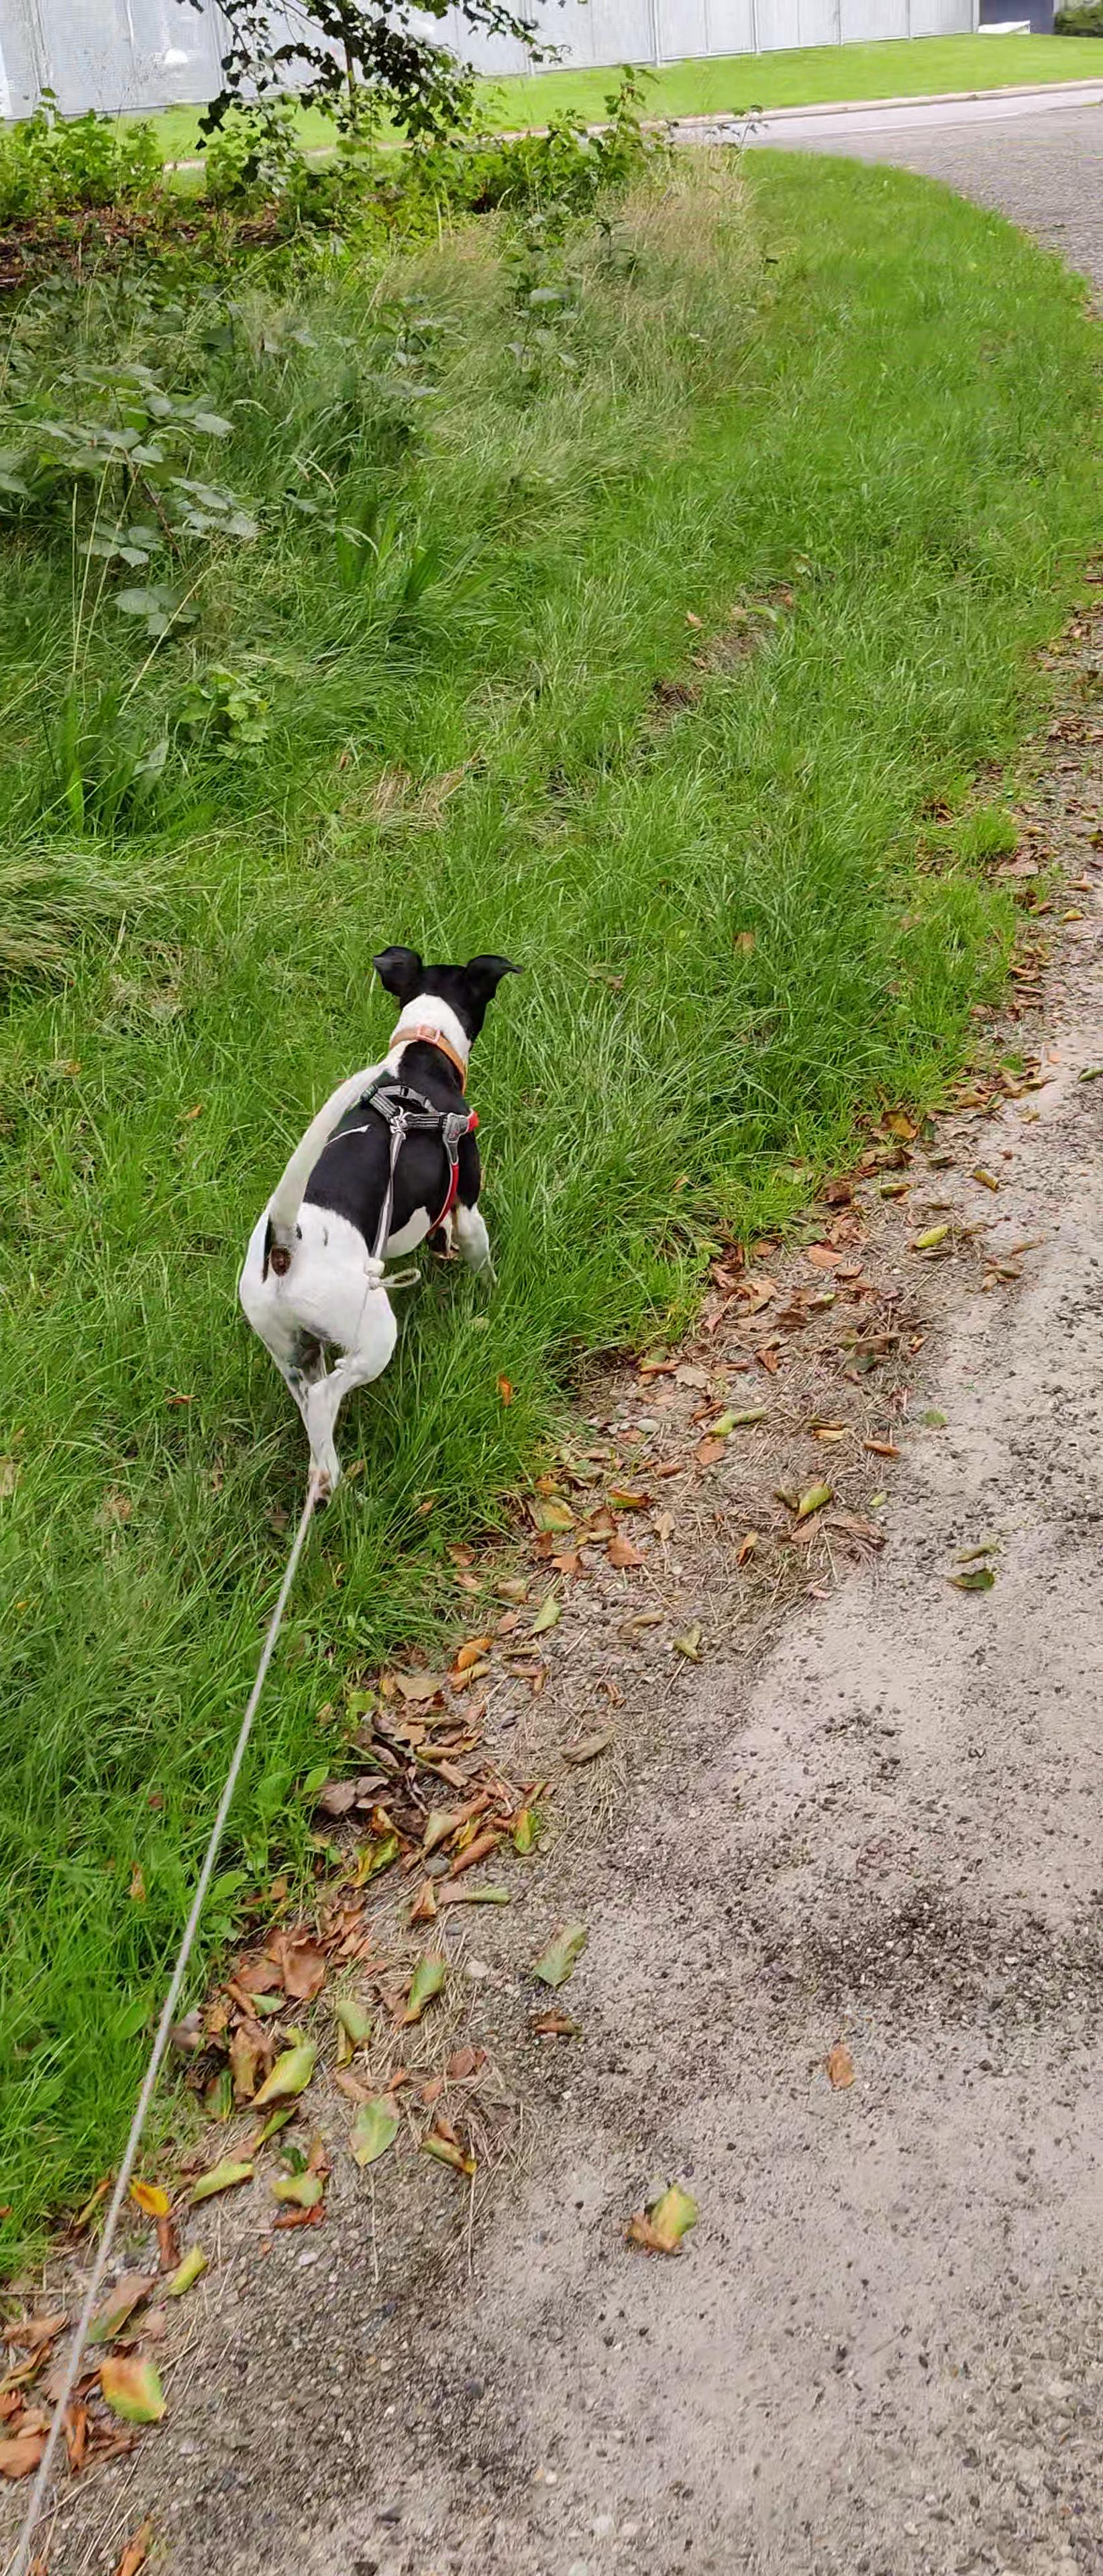Dog: (230, 938, 541, 1505)
